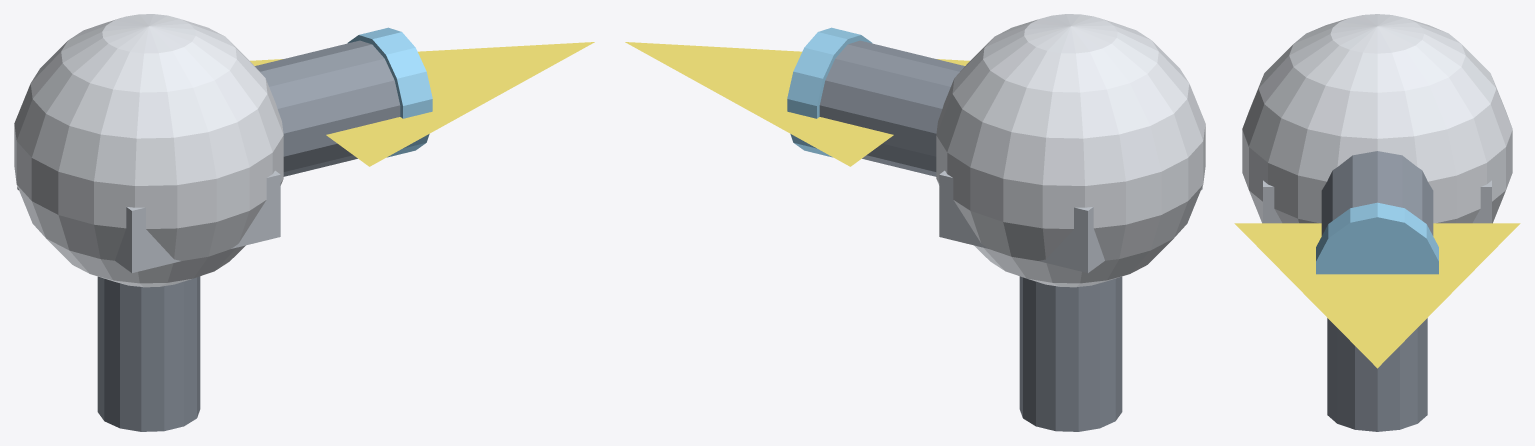
3 renders of one model, left to right at view 1: azimuth 30°, elevation 25°; view 2: azimuth 150°, elevation 25°; view 3: azimuth 270°, elevation 25°, orthographic.
Bounding box in the file's own units: 11.36 × 7.4 × 5.
